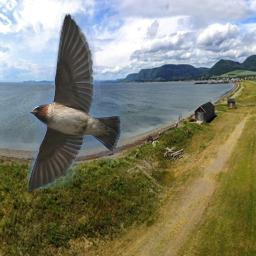Swallow: (27, 13, 122, 192)
